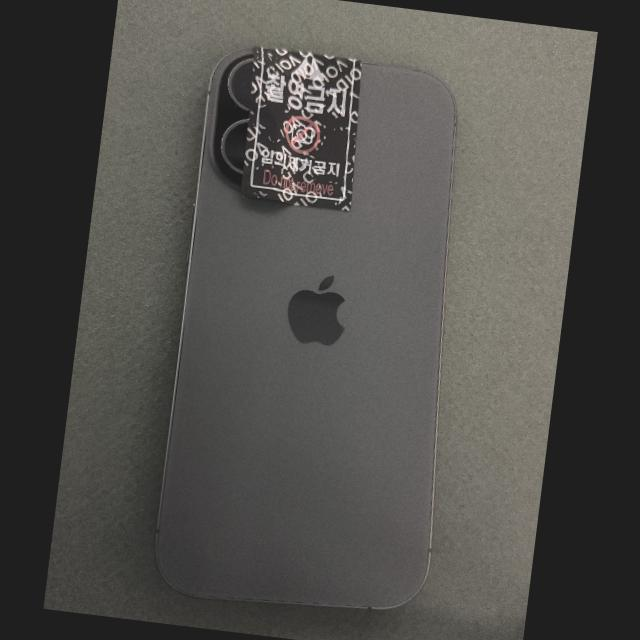lens: (218, 121, 248, 175), (228, 61, 253, 108)
phone: (154, 49, 456, 610)
sticker: (240, 47, 363, 211)
